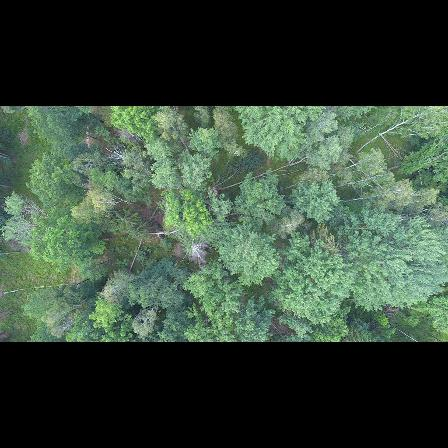Dead: (379, 132, 411, 166), (15, 196, 54, 223), (181, 235, 210, 266), (100, 187, 137, 211), (105, 144, 133, 172)
